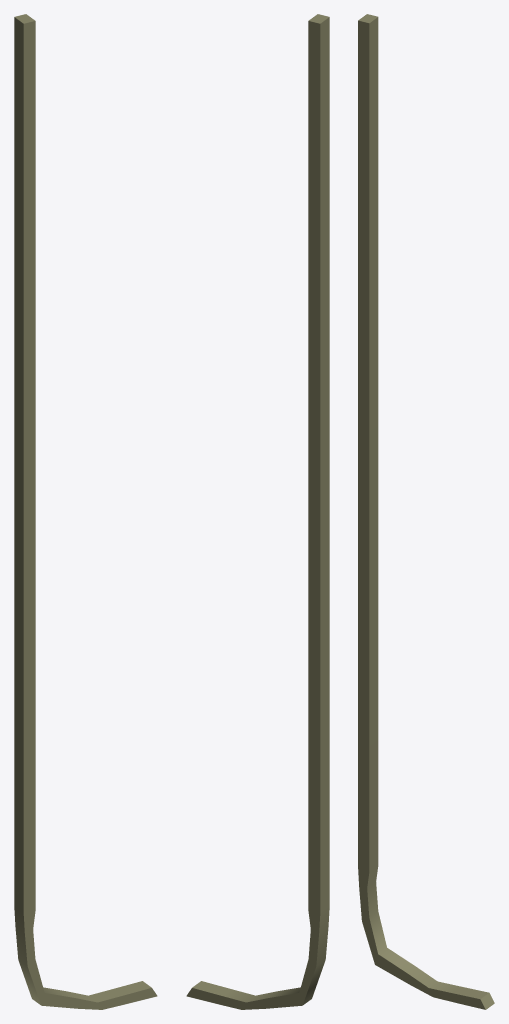
The model's file is Base_Mesh_CrapsRod.fbx.
The picture shows the model from 3 angles, left to right: view 1: azimuth 30°, elevation 25°; view 2: azimuth 150°, elevation 25°; view 3: azimuth 330°, elevation 25°; orthographic projection. The views are drawn at different scales.
Visible parts, largest first — view 1: craps_rod; view 2: craps_rod; view 3: craps_rod.
Boxes of the visible parts, x1,y1,x2,y2 form: craps_rod: (14,14,157,1009); craps_rod: (186,14,329,1009); craps_rod: (358,14,494,1009).
Size of the model in its own units: 8.23 by 58.99 by 1.
